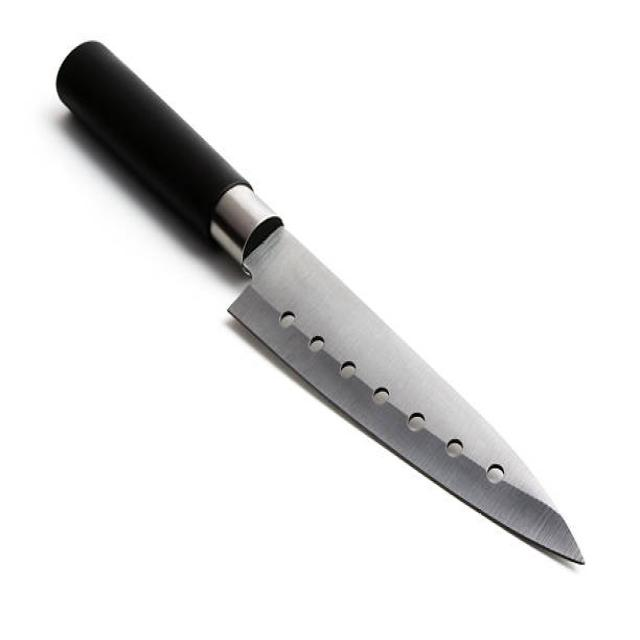knife: (45, 27, 592, 574)
